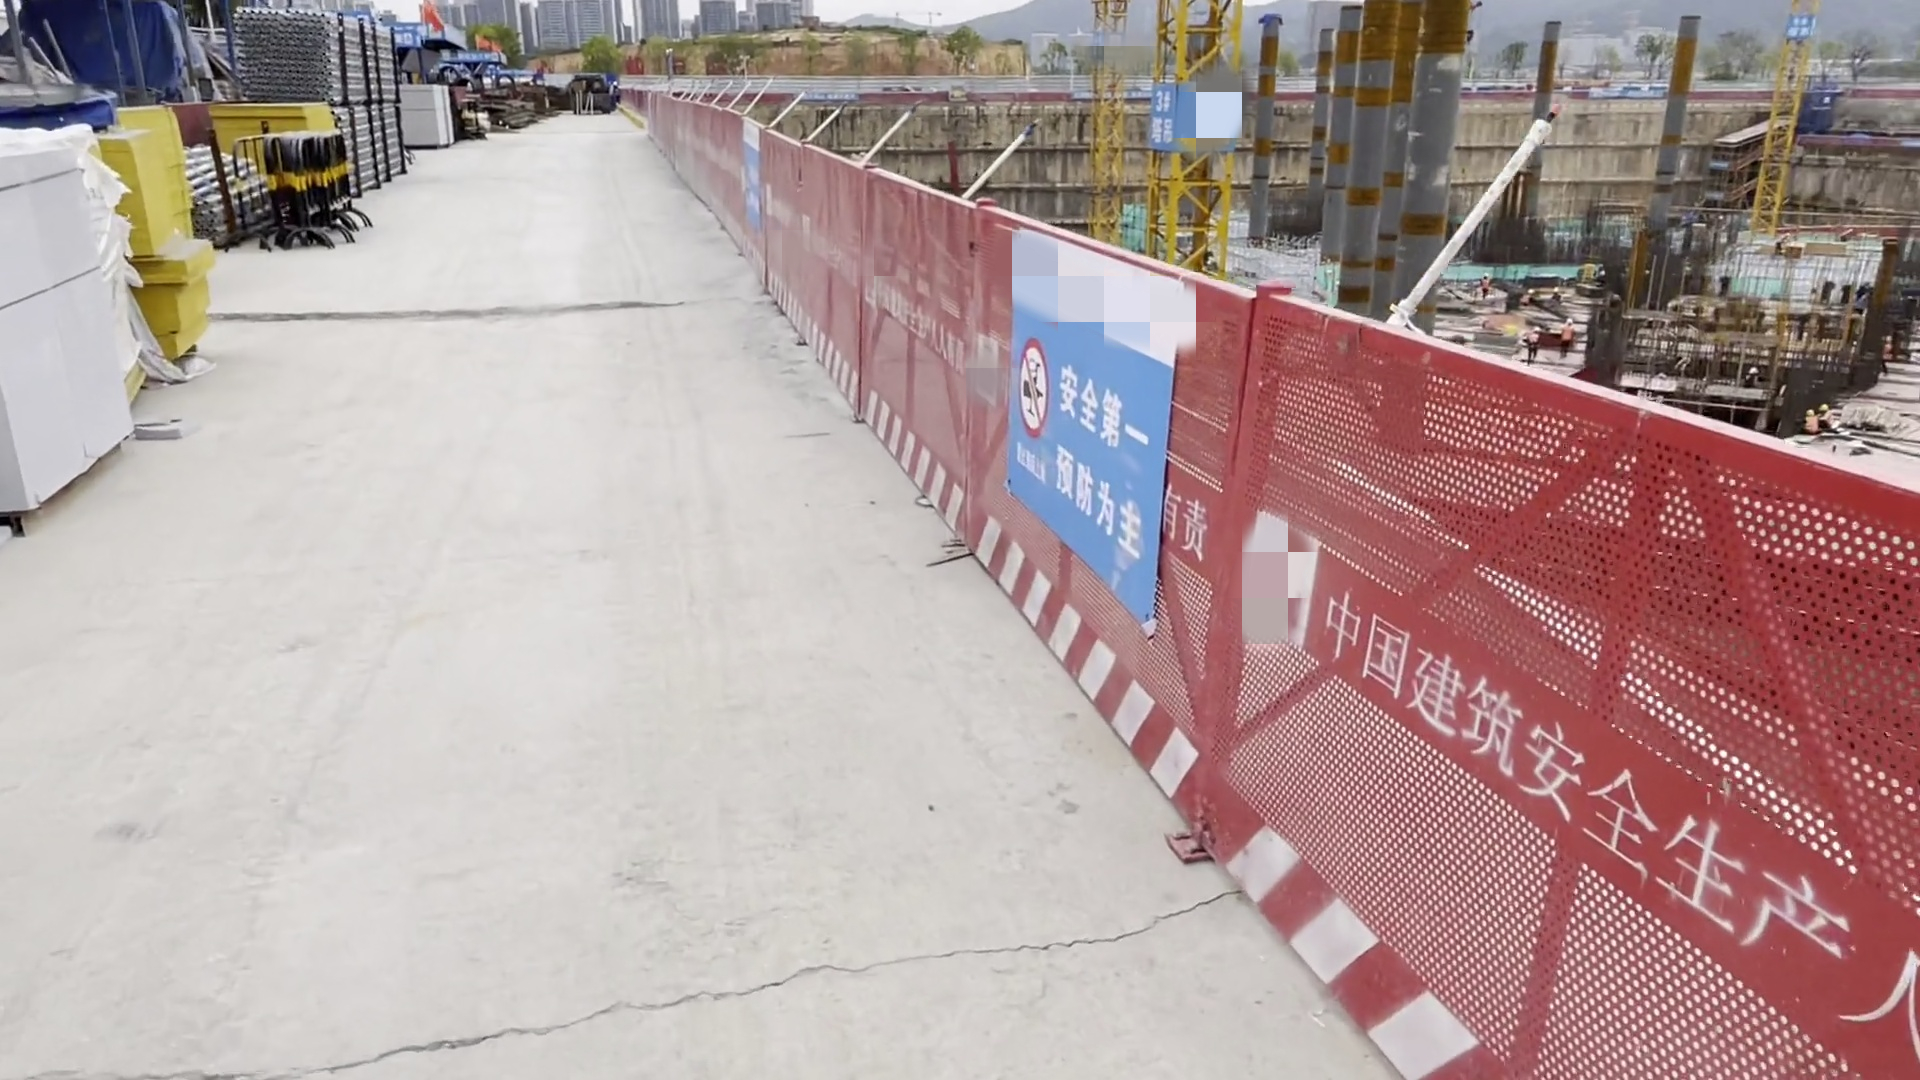fence: (659, 99, 1905, 1080)
slogan: (969, 223, 1199, 657)
